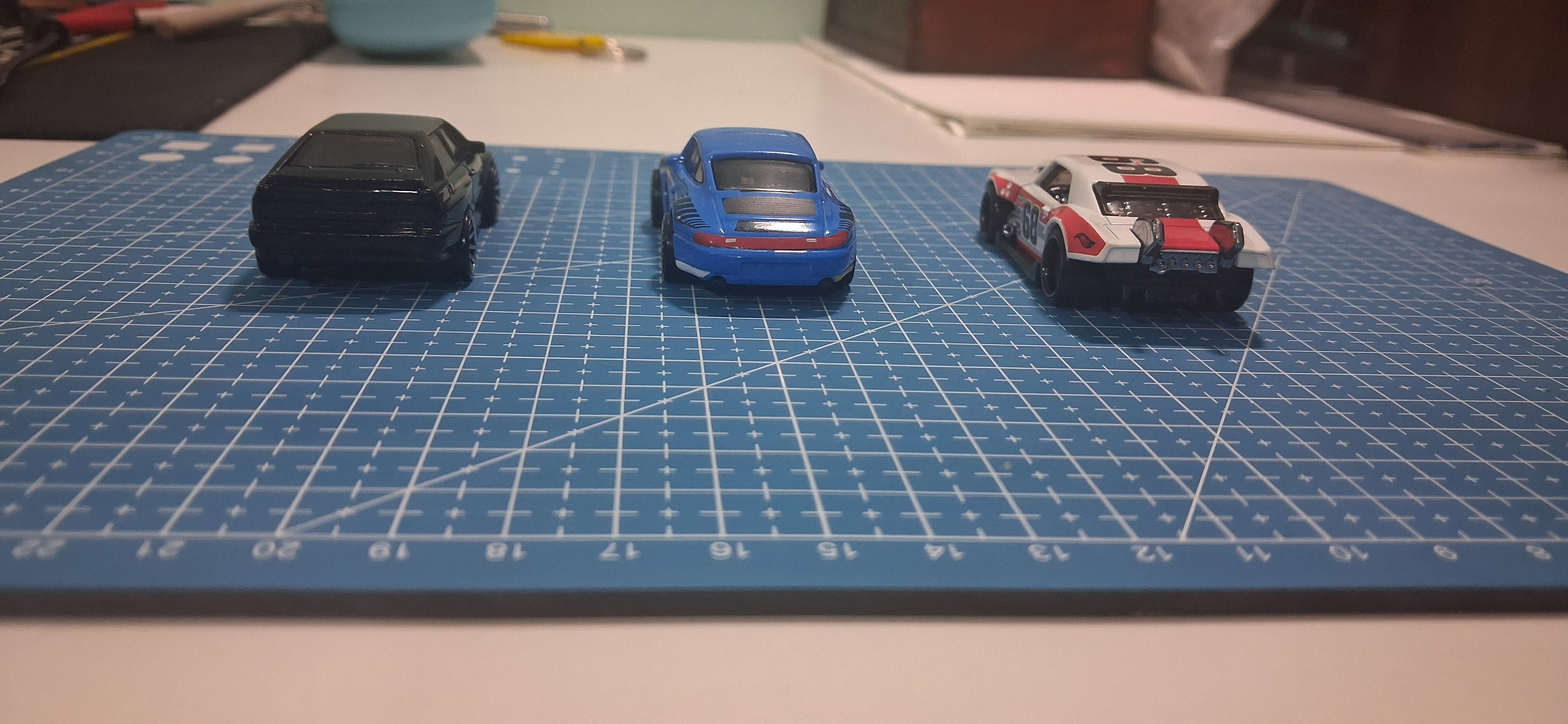Audi_Quattro: (214, 77, 529, 327)
Camaro: (942, 116, 1323, 365)
Porsche_Carrera: (625, 105, 896, 371)
